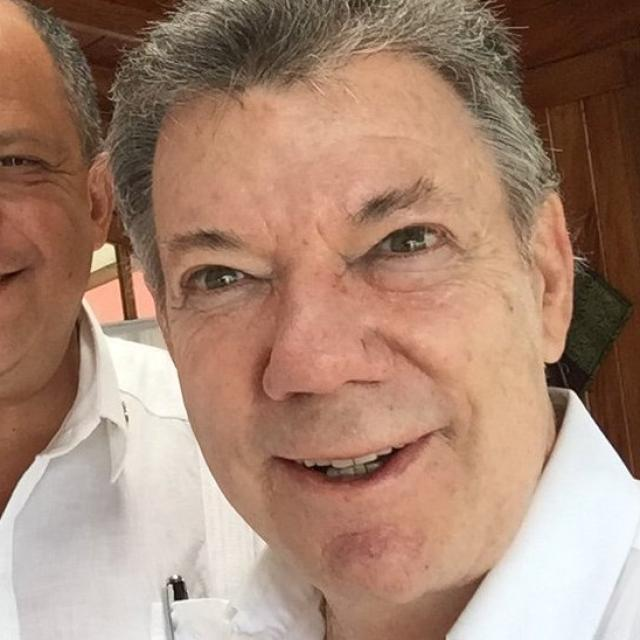Normal: (148, 45, 552, 599)
